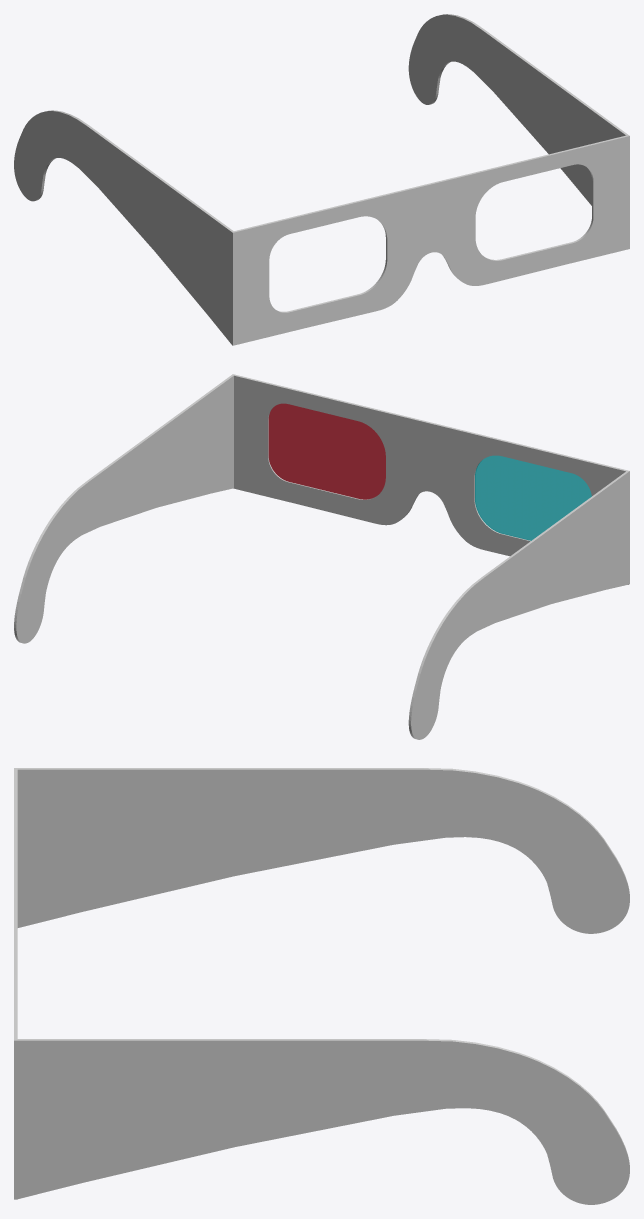
Rendered from new_3d-anaglyph_v18.gltf.
3 renders of one model, top to bottom at view 1: azimuth 30°, elevation 25°; view 2: azimuth 150°, elevation 25°; view 3: azimuth 270°, elevation 25°, orthographic. The views are drawn at different scales.
Parts seen in each view (by area): view 1: glasses; view 2: glasses, magenta, cyan; view 3: glasses.
Boxes of the visible parts, x1=… form: glasses: x1=14, y1=14, x2=629, y2=345; glasses: x1=14, y1=374, x2=629, y2=739; magenta: x1=268, y1=403, x2=385, y2=499; cyan: x1=475, y1=455, x2=591, y2=540; glasses: x1=14, y1=768, x2=629, y2=1204.
Bounding box in the file's own units: 5.05 × 1.42 × 4.83.
